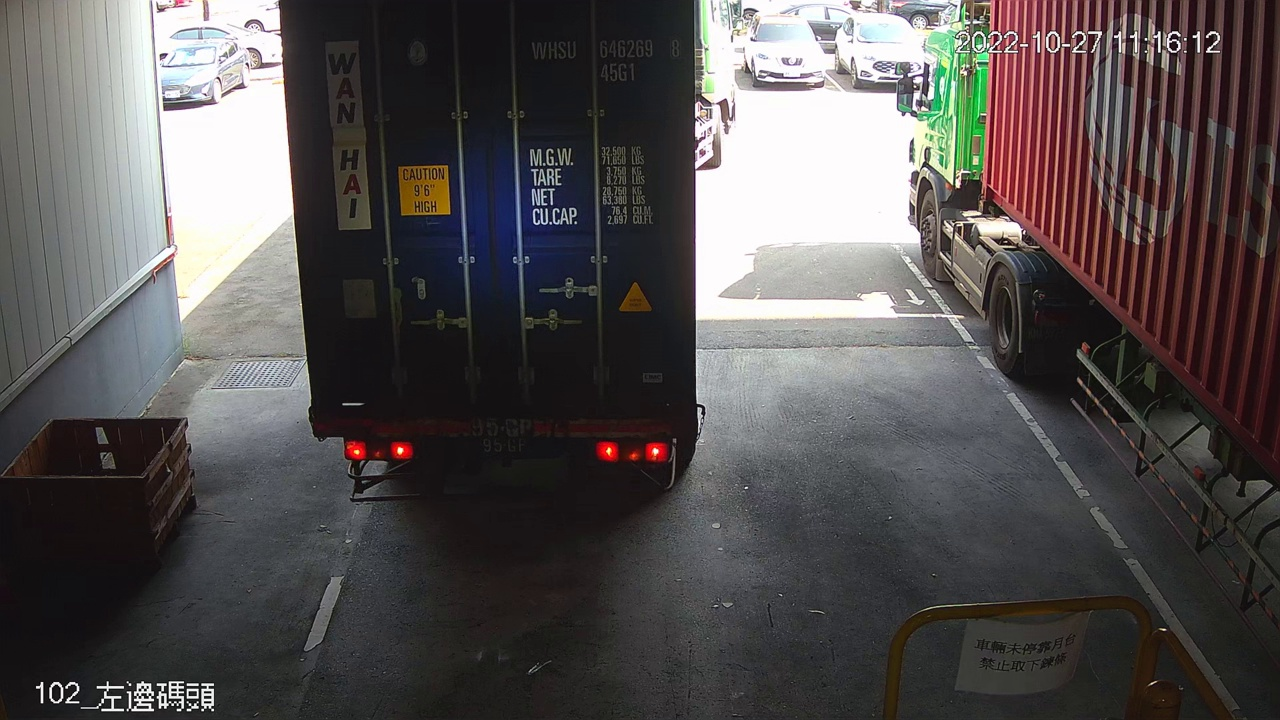container: (524, 29, 688, 88)
